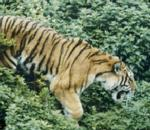Tigre: (4, 15, 134, 124)
